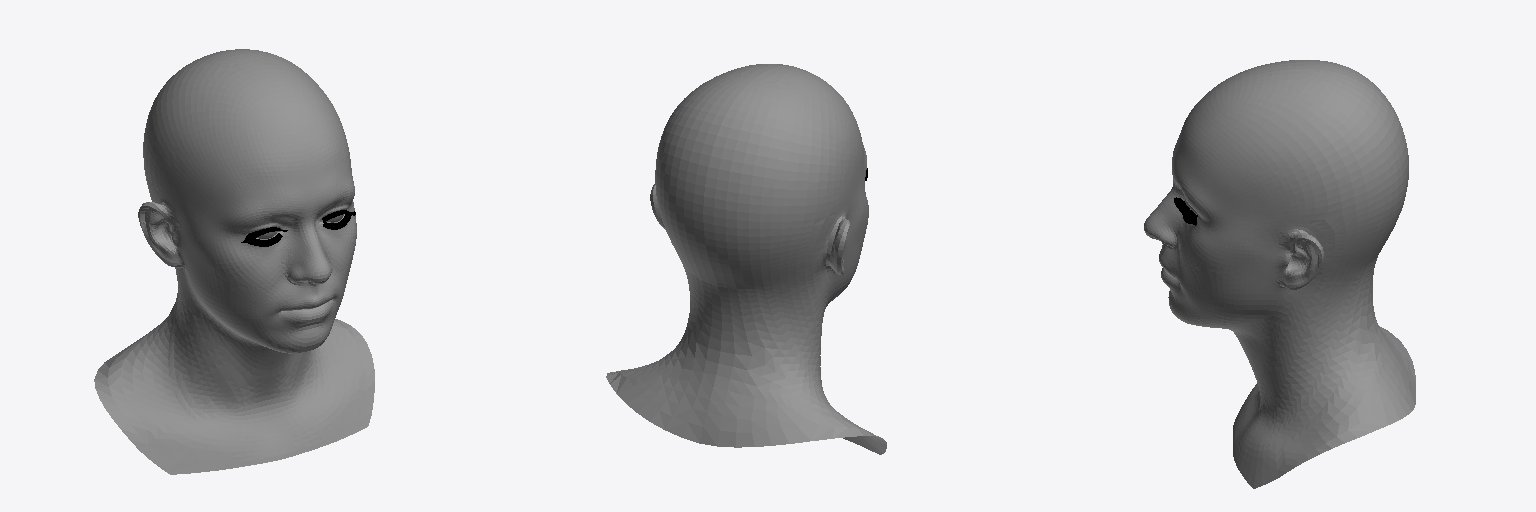
Rendered from identity088.obj.
The picture shows the model from 3 angles: view 1: azimuth 30°, elevation 25°; view 2: azimuth 150°, elevation 25°; view 3: azimuth 270°, elevation 25°; orthographic projection.
Bounding box in the file's own units: 24.87 × 33.8 × 22.33.